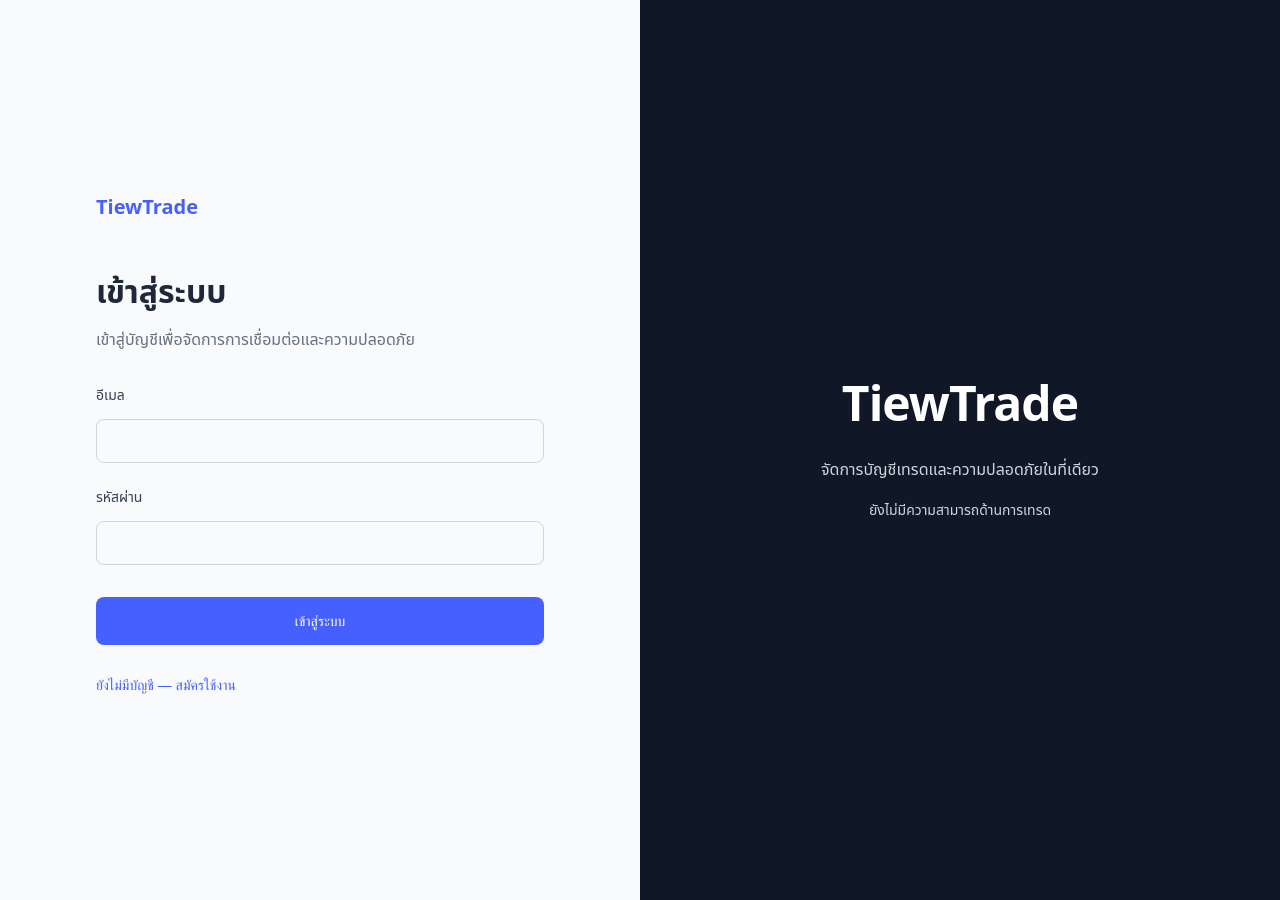
AuthPanel › บอกเหตุผลที่หลังบ้านปฏิเสธ ไม่ใช่ข้อความที่เขียนไว้เอง
Expected: the element with test id "signed-out" is shown, [96,271,544,709]
Type "someone@example.com" into the field labelled "อีเมล" at point(320, 441), box [96,419,544,463]
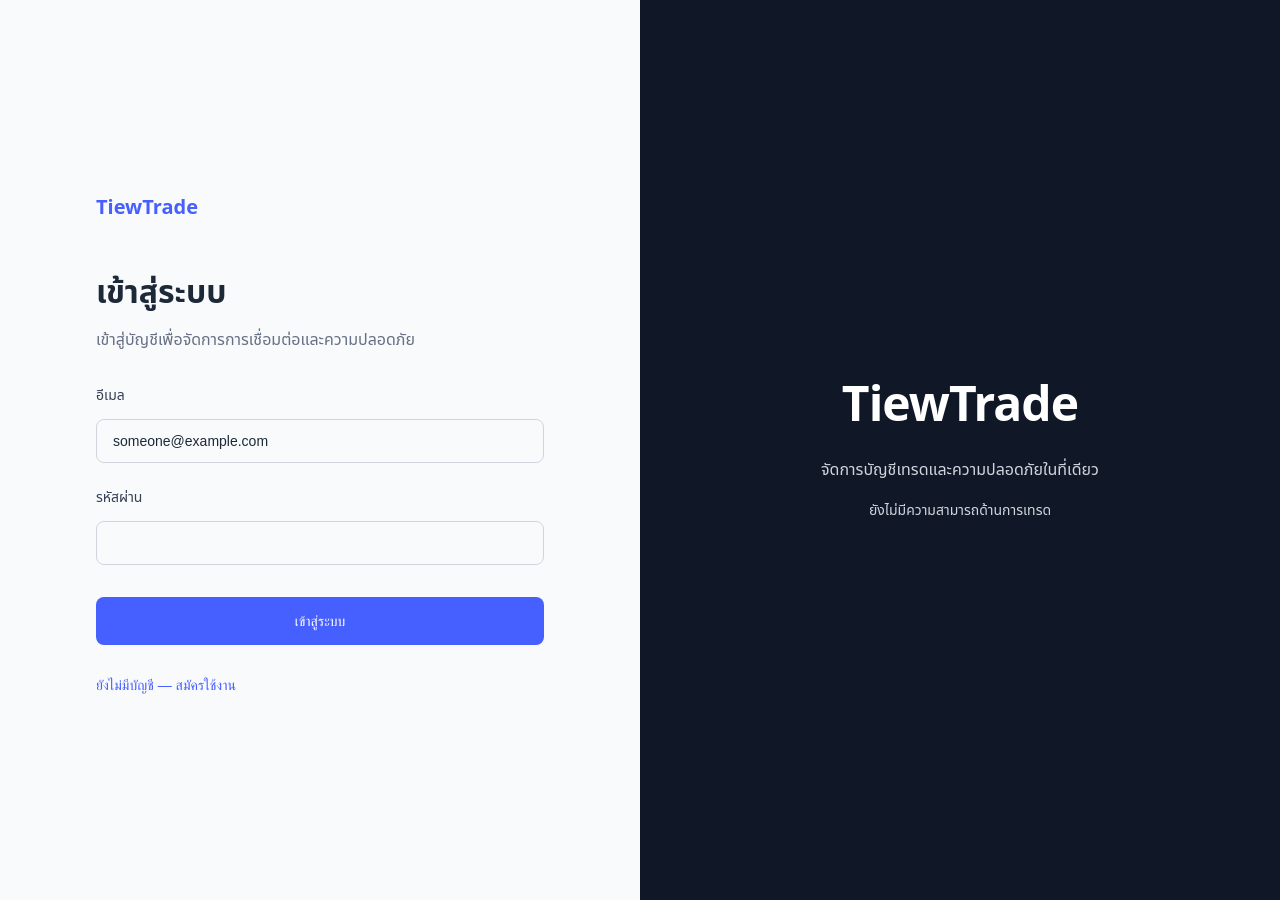
Type "รหัสผ่านที่ยาวพอใช้งาน" into the password field labelled "รหัสผ่าน" at point(320, 543), box [96,521,544,565]
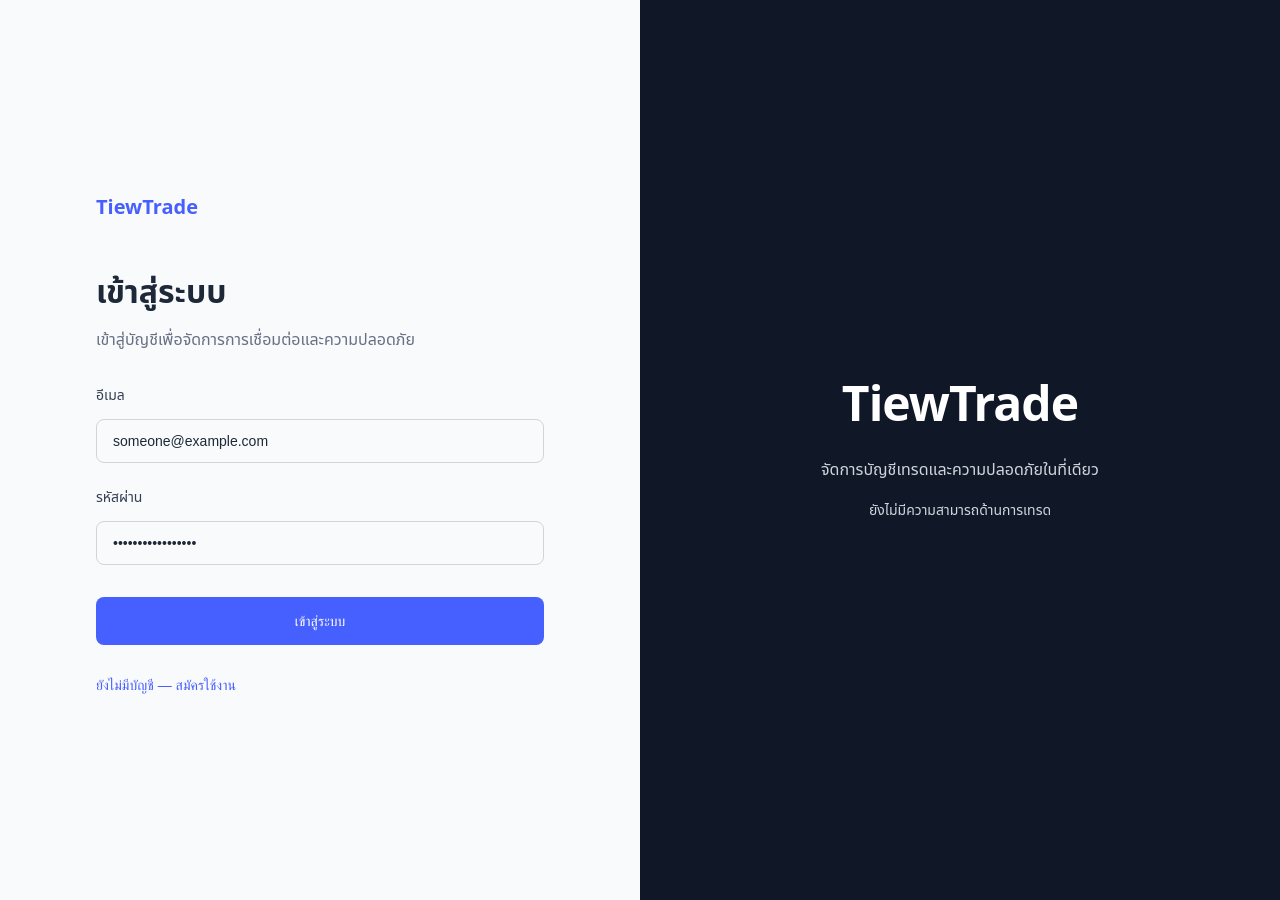
Click the button with test id "submit" at point(320, 621), box [96,597,544,645]
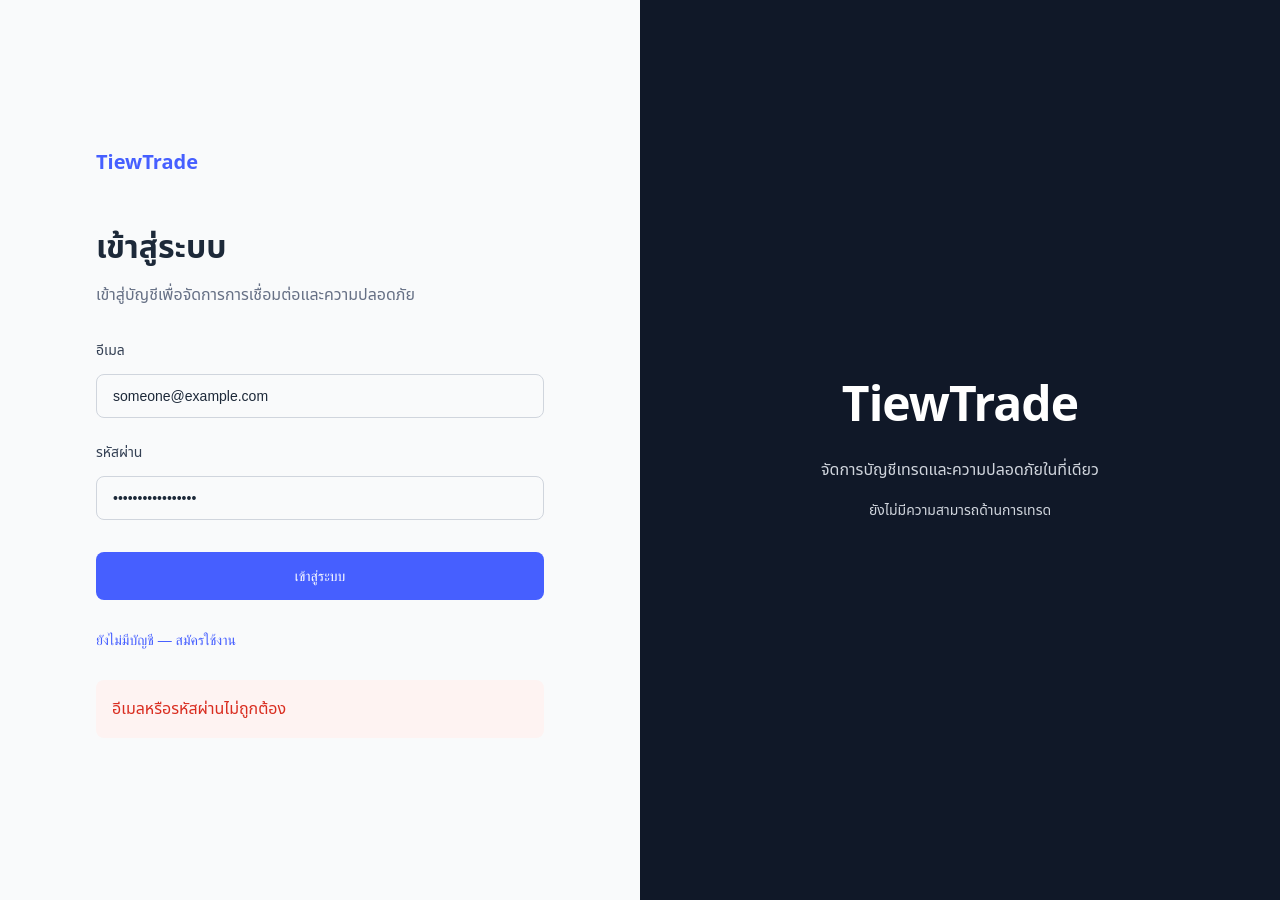
Expected: the message with test id "refusal" reads "อีเมลหรือรหัสผ่านไม่ถูกต้อง", [112,697,286,719]
